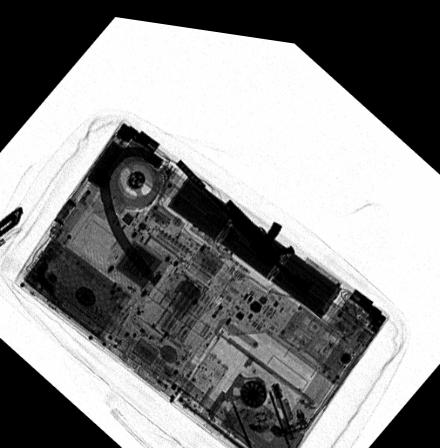Gun: (171, 150, 318, 283)
